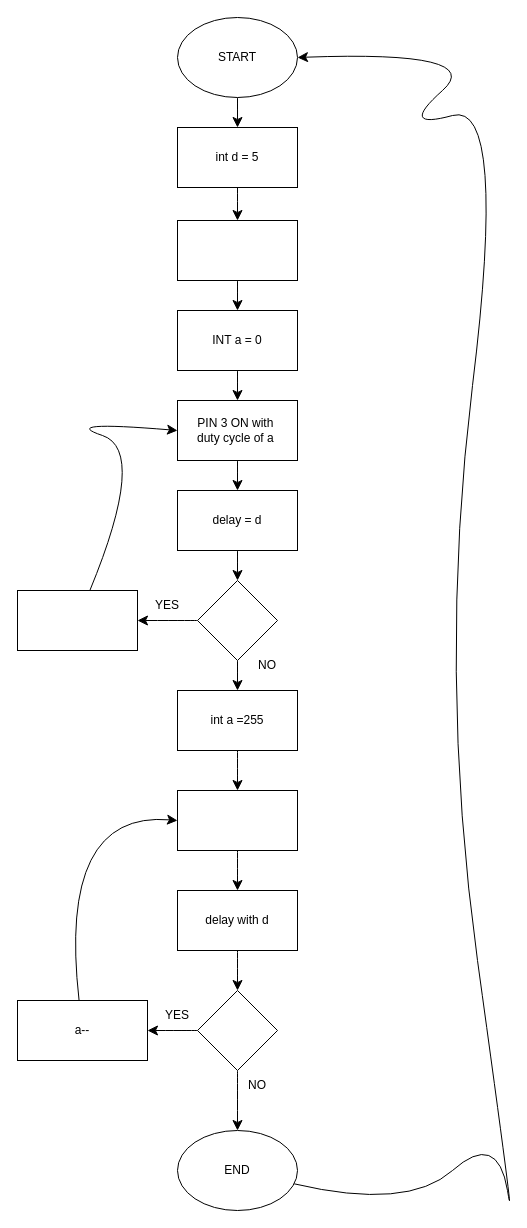
This 527x1228 diagram has some shape labels left out. Here are the shapes that lost their labels. From the top down, the centre of each, then its label:
At point (237, 250): "PIN 3 OUTPUT".
At point (77, 620): "a++".
At point (237, 620): "if a<256".
At point (237, 820): "PIN 3 turning off With duty cycle a".
At point (237, 1030): "a>=0".
